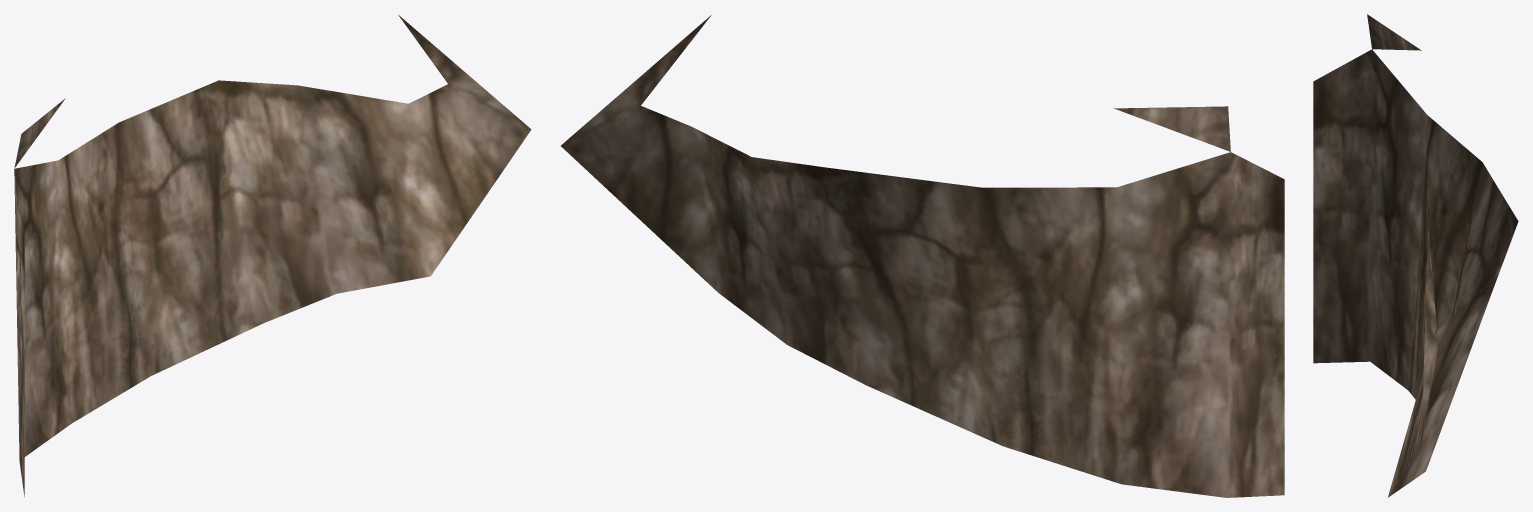
File: OVERHILL_A_01_OBJECT151.fbx
The picture shows the model from 3 angles, left to right: view 1: azimuth 30°, elevation 25°; view 2: azimuth 150°, elevation 25°; view 3: azimuth 270°, elevation 25°; orthographic projection. The views are drawn at different scales.
Visible parts, largest first — view 1: OVERHILL_A_01_OBJECT151; view 2: OVERHILL_A_01_OBJECT151; view 3: OVERHILL_A_01_OBJECT151.
Boxes of the visible parts, x1,y1,x2,y2 form: OVERHILL_A_01_OBJECT151: [14, 15, 531, 497]; OVERHILL_A_01_OBJECT151: [561, 15, 1284, 497]; OVERHILL_A_01_OBJECT151: [1313, 14, 1518, 497].
Size of the model in its own units: 92369 by 53809 by 27734.
1 material, 1 textured.
